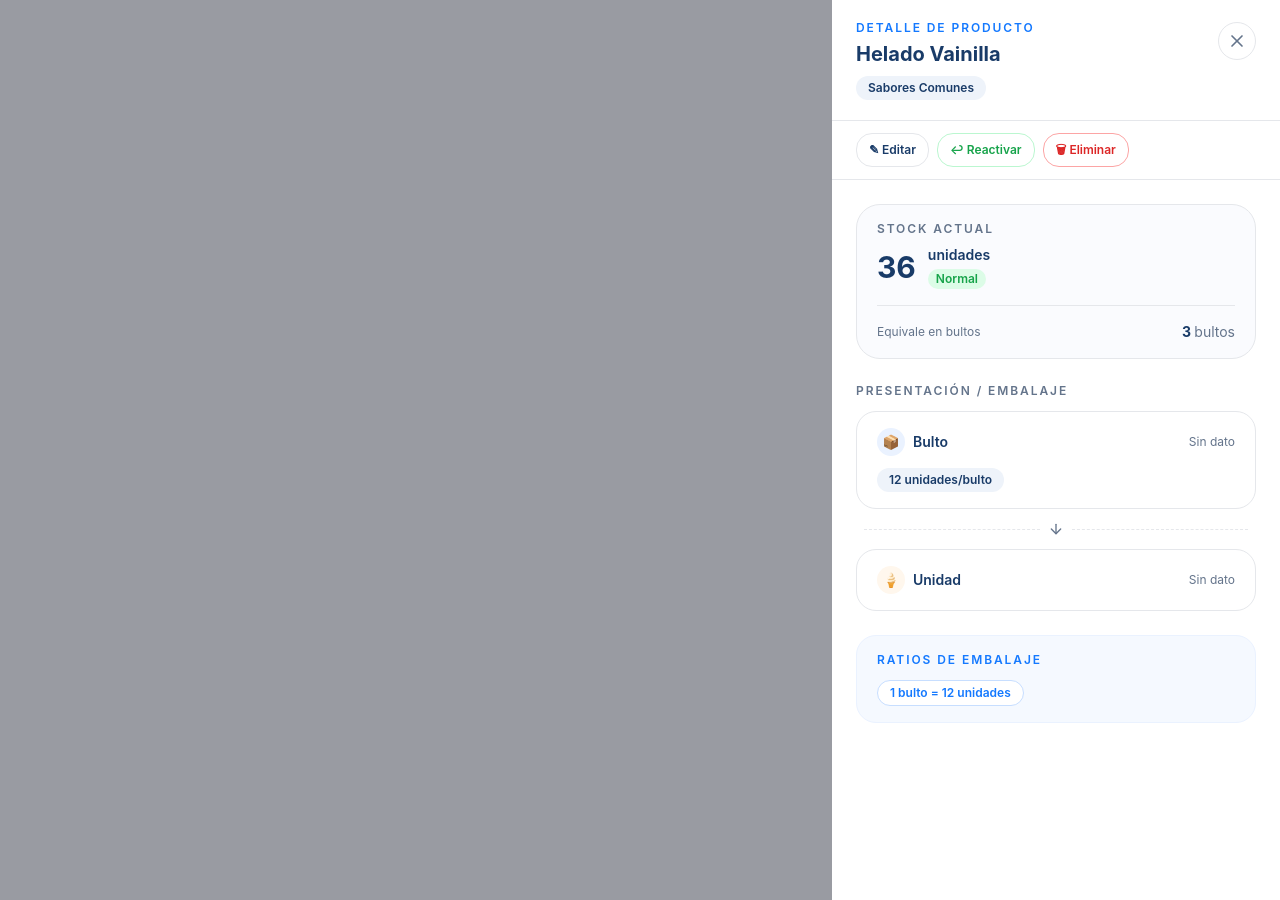
producto inactivo — reactivar y eliminar › muestra la zona de confirmación al hacer click en Eliminar
Expected: the text "Esta acción es irreversible" is not shown
Click the button "🗑 Eliminar" at (1086, 150), box left=1042, top=133, right=1129, bottom=167
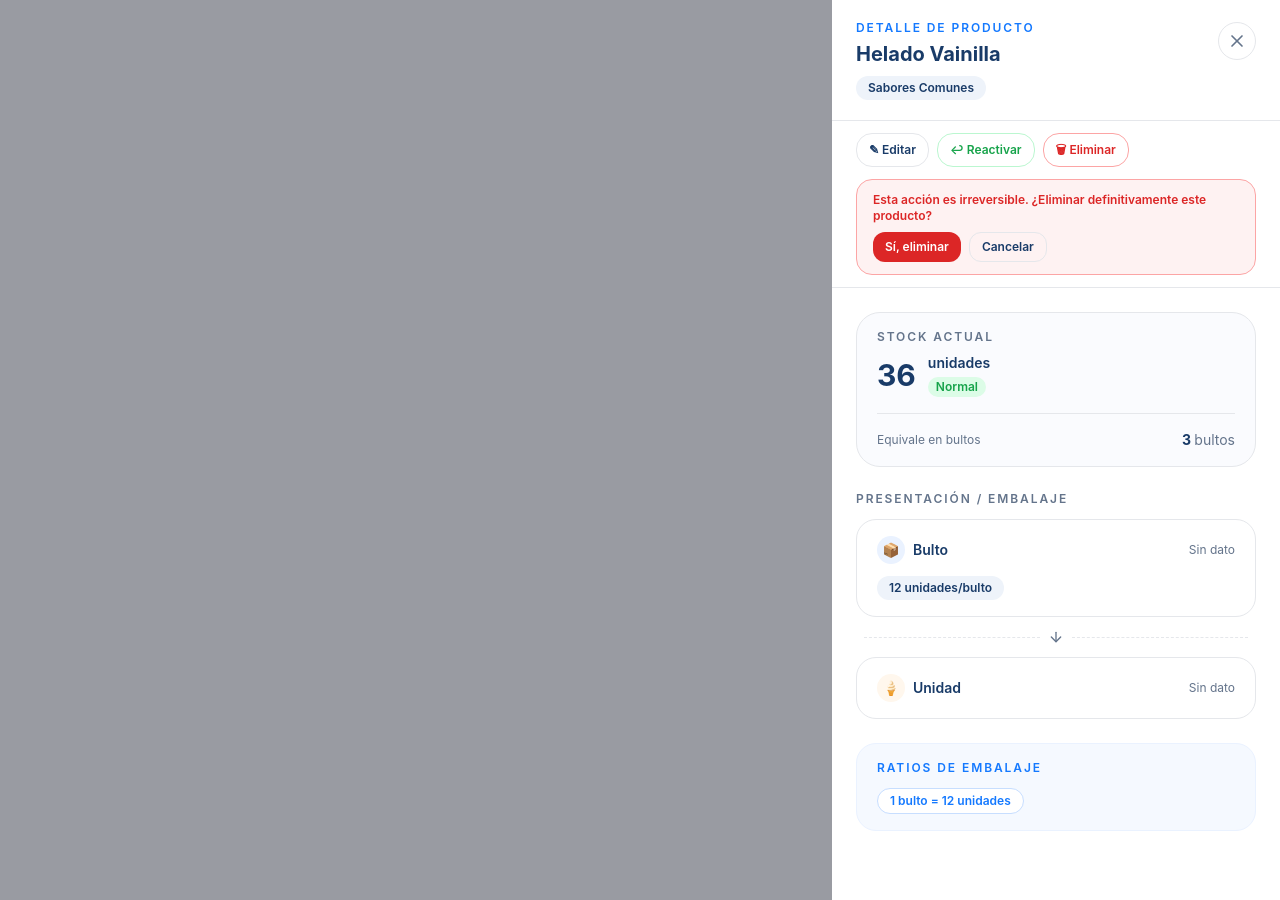
Expected: the text "Esta acción es irreversible" is shown, left=873, top=192, right=1206, bottom=223
